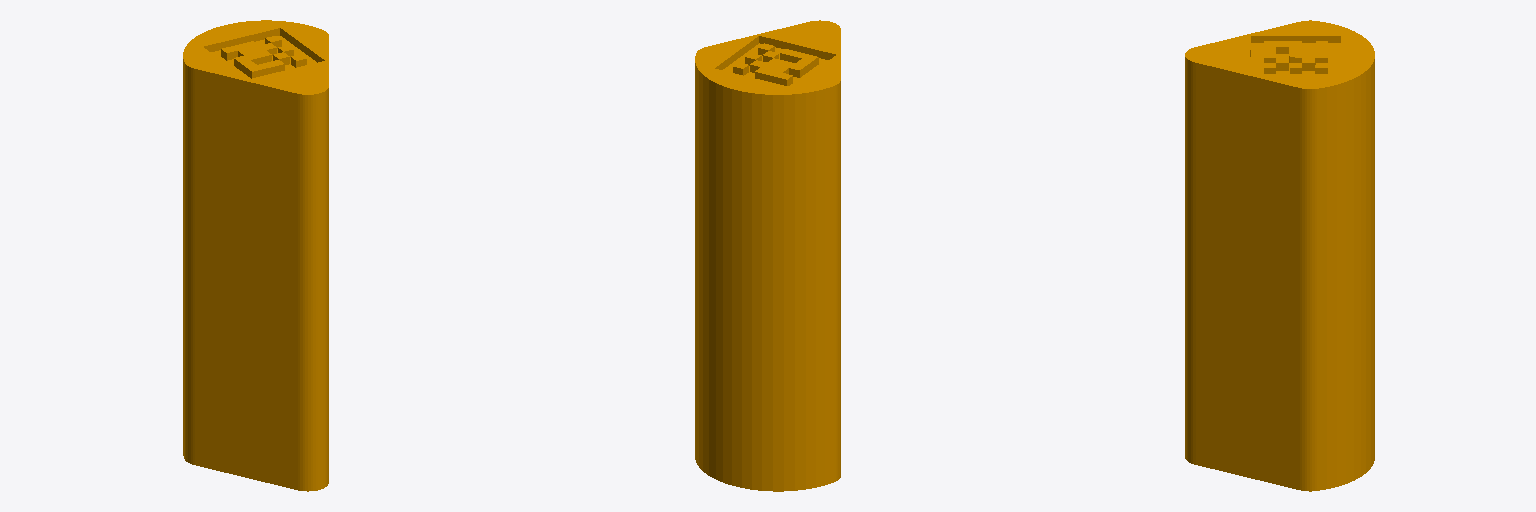
The robot description file, URDF, robot "50x30_Teardrop":
<?xml version="1.0" ?>
<robot name="50x30_Teardrop">

    <link name="50x30_Teardrop">
        <visual>
            <origin rpy="1.5707963267948966 0 -1.5707963267948966" xyz="-.0025 0 -0.0"/>
            <geometry>
                <mesh filename="Shapes/50x30_teardrop.obj" scale="1.1 1.1 1.1"/>
            </geometry>
        </visual>
        <collision>
            <origin rpy="1.5707963267948966 0 -1.5707963267948966" xyz="-.0025 0 -0.0"/>
            <geometry>
                <mesh filename="Shapes/50x30_teardrop.obj" scale="1.1 1.1 1.1"/>
            </geometry>
        </collision>
        <inertial>
            <mass value="0.3"/>
            <inertia ixx="0.000029435425" ixy="0.0" ixz="0.0" iyy="0.000029435425" iyz="0.0" izz="0.00000725805"/>
        </inertial>
    </link>

</robot>

--- Render facts (derived) ---
3 views of the same robot in one strip: view 1: azimuth 30°, elevation 25°; view 2: azimuth 150°, elevation 25°; view 3: azimuth 270°, elevation 25° (orthographic).
Robot: 50x30_Teardrop — 1 links, 0 joints (none); root link 50x30_Teardrop; default pose: all joints at 0.
Links seen in each view (by area): view 1: 50x30_Teardrop; view 2: 50x30_Teardrop; view 3: 50x30_Teardrop.
Boxes of the visible links, <box> form: 50x30_Teardrop: <box>183,20,328,491</box>; 50x30_Teardrop: <box>695,20,840,491</box>; 50x30_Teardrop: <box>1185,20,1374,491</box>.
Bounding box of the posed robot: 0.0423 × 0.0495 × 0.1155 m (x, y, z).
Meshes: 1 distinct files referenced, 1 mesh visuals loaded (1 OBJ).
